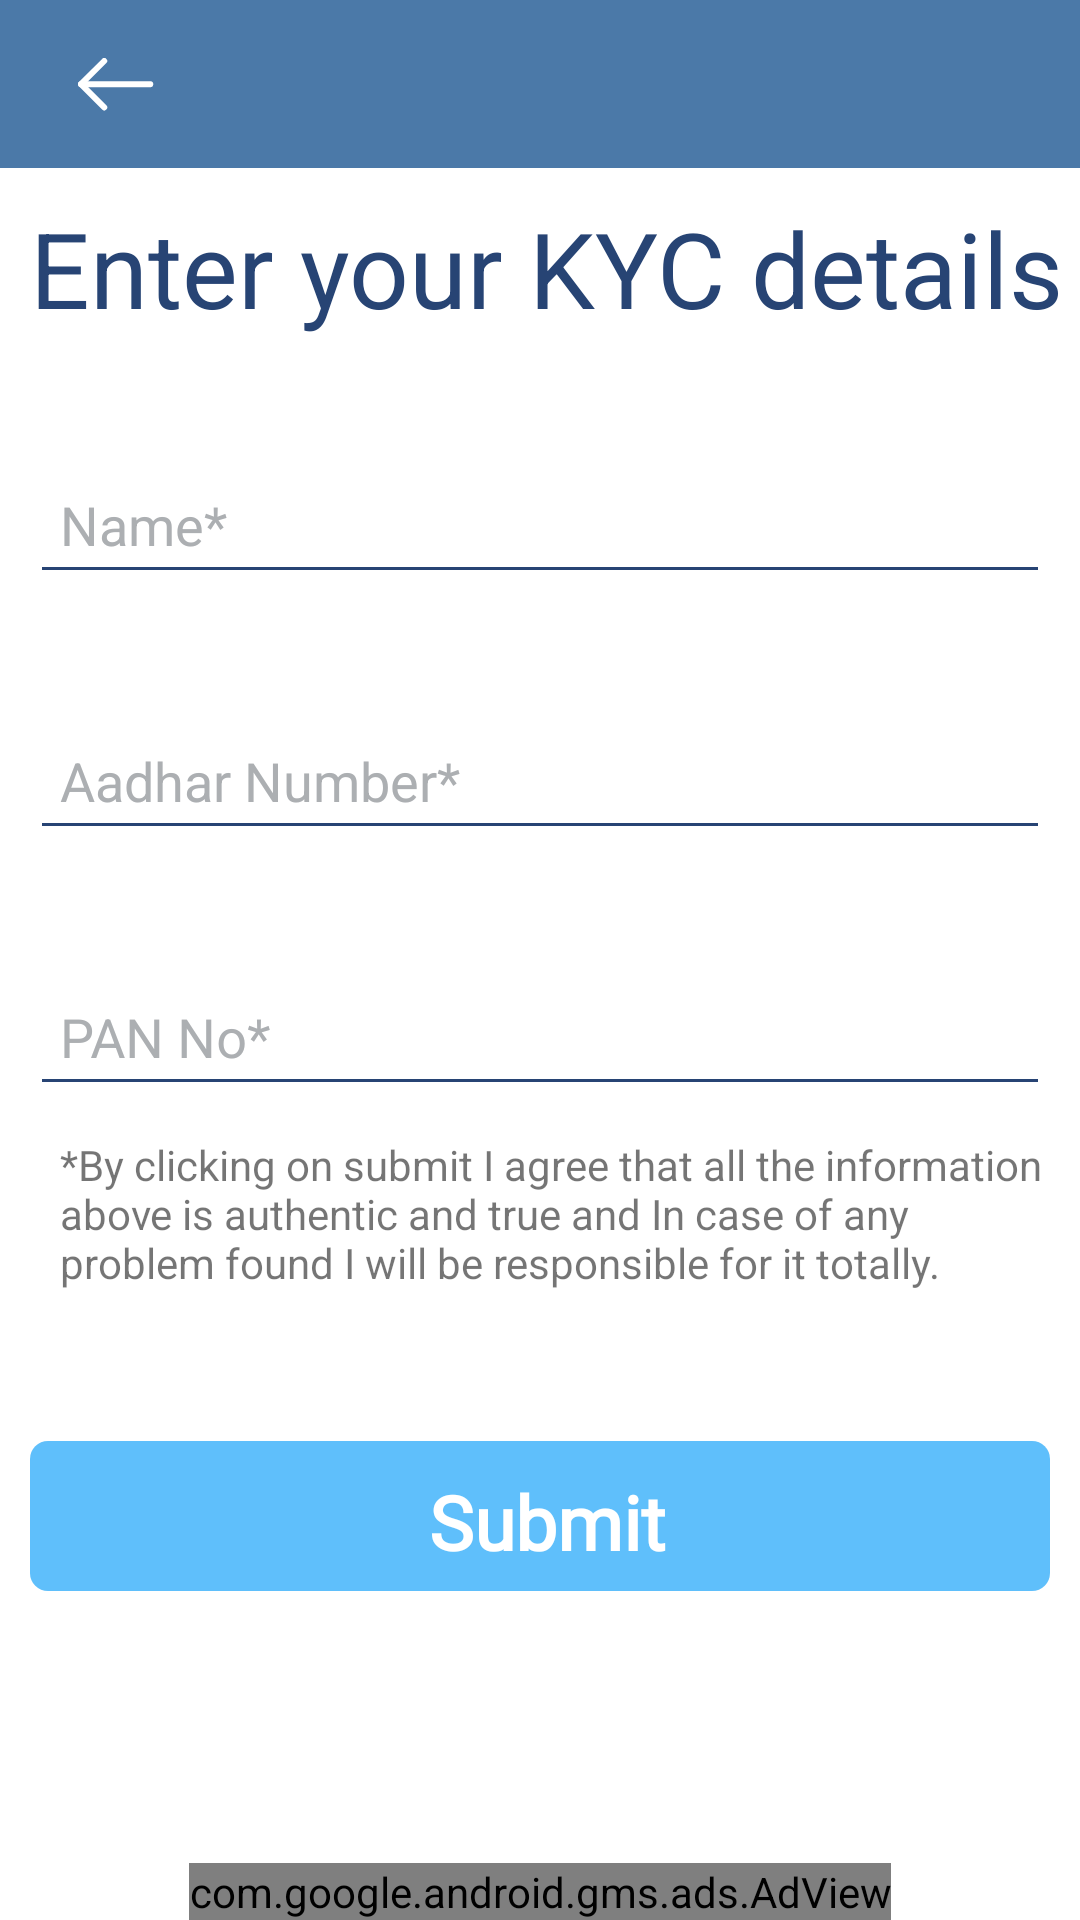

Named icons in this screenshot (1080*1920) and their bounding boxes, (x1, y1, x2, y2):
back: (78, 58, 154, 111)
